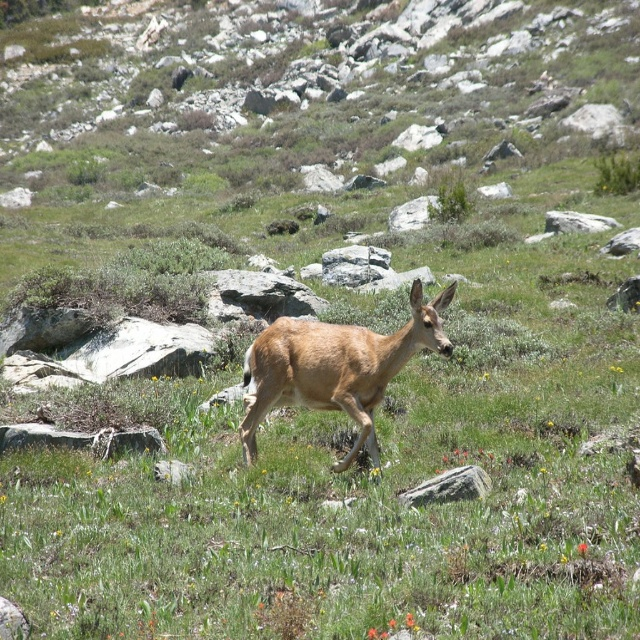Deer: (238, 278, 458, 485)
